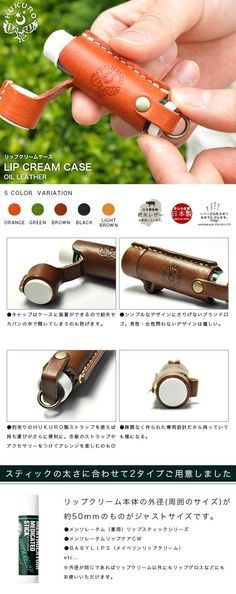cuero: (1, 31, 228, 406)
